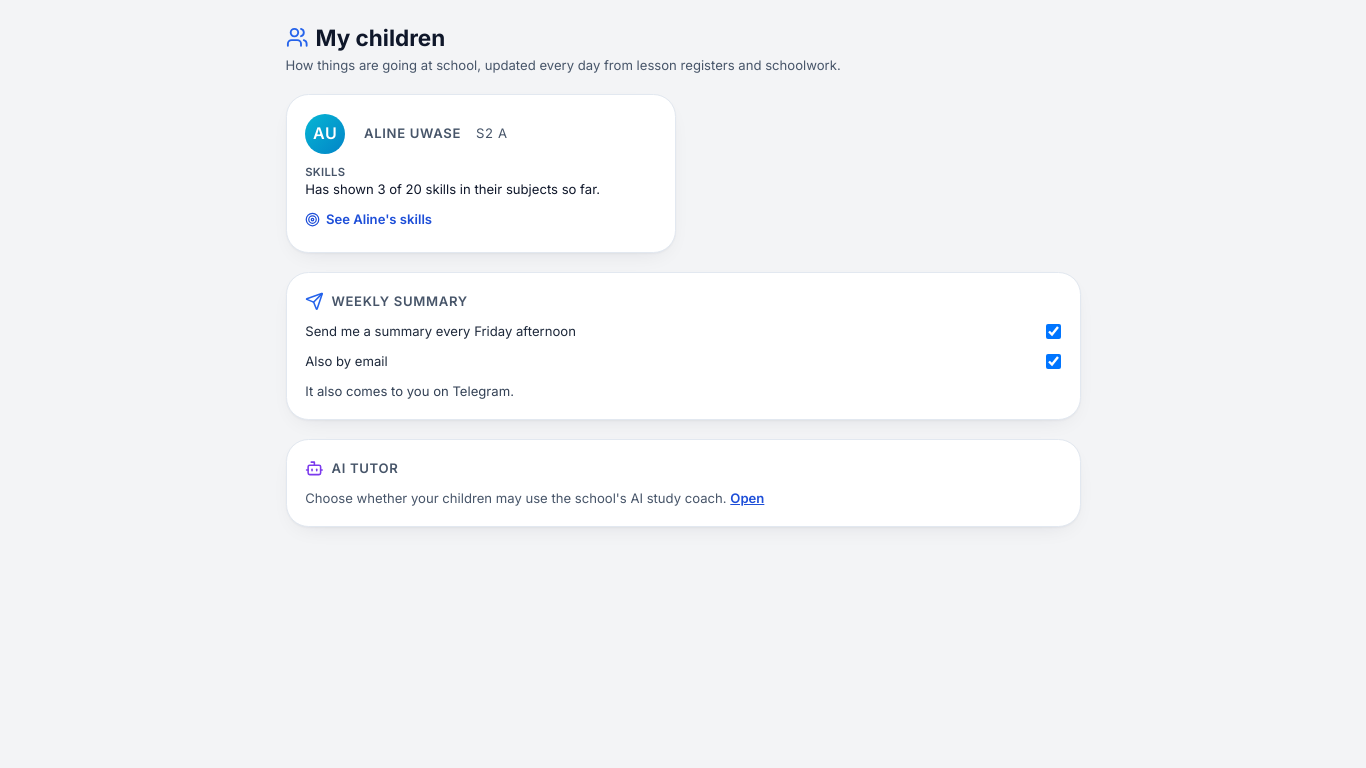
it: families › parents see a skills sentence and open a child's skills
Click the button "See Aline's skills": (369, 219) 305,210 -> 432,229
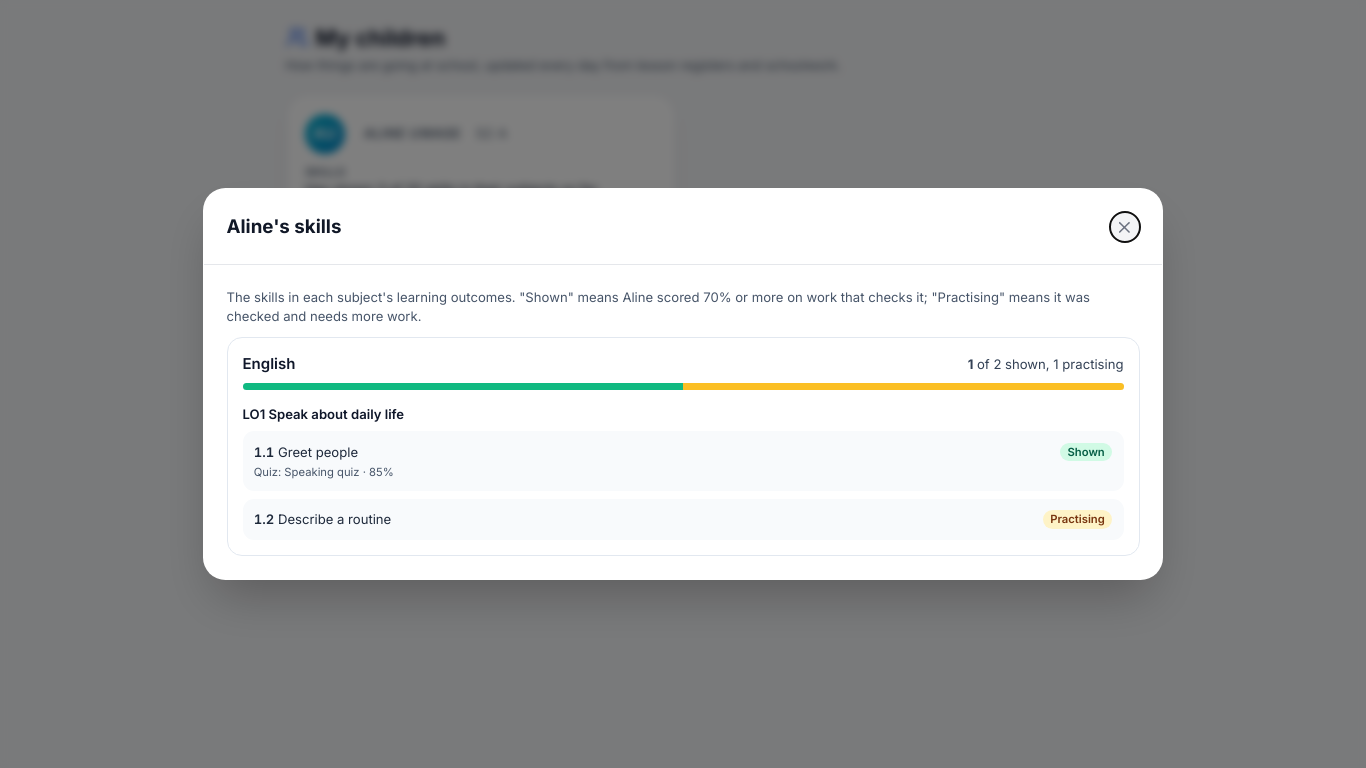
expect the heading "English" is shown: met, box 242,353 -> 295,375
expect the element with test id "fam-skills" shows "Quiz: Speaking quiz · 85%": met, box 226,288 -> 1140,556
